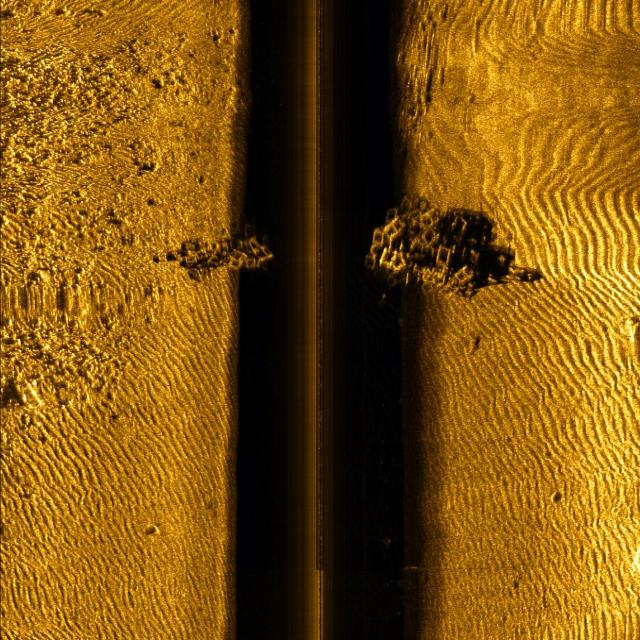artificial reef: (363, 187, 483, 303), (186, 221, 278, 282)
